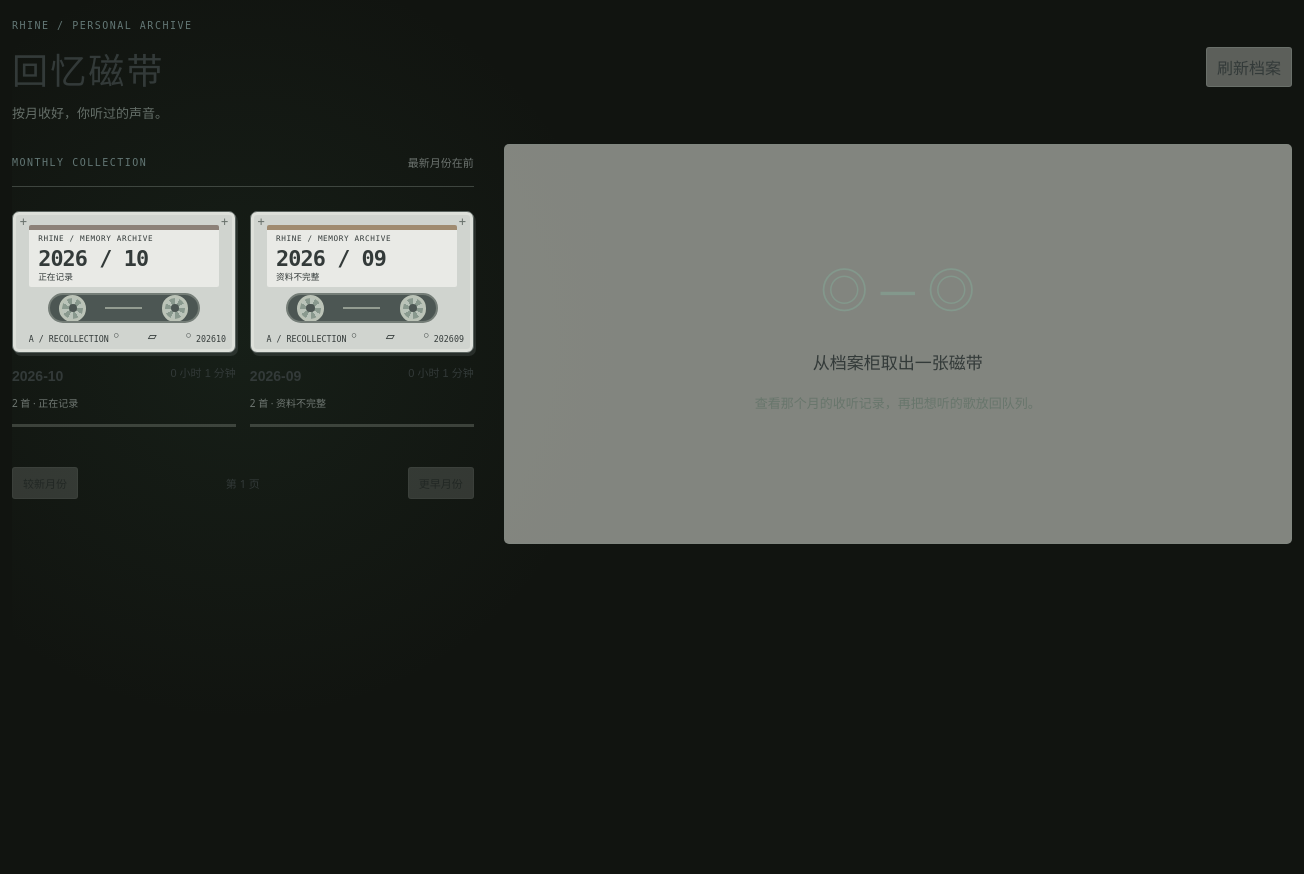
Test: 月份状态、翻面与重复打开不丢失档案，缺失曲目不可回放
This screenshot has width=1304, height=874.
Click the button with aria-label "打开 2026-10" at {"x": 124, "y": 319}, box [12, 211, 236, 427]
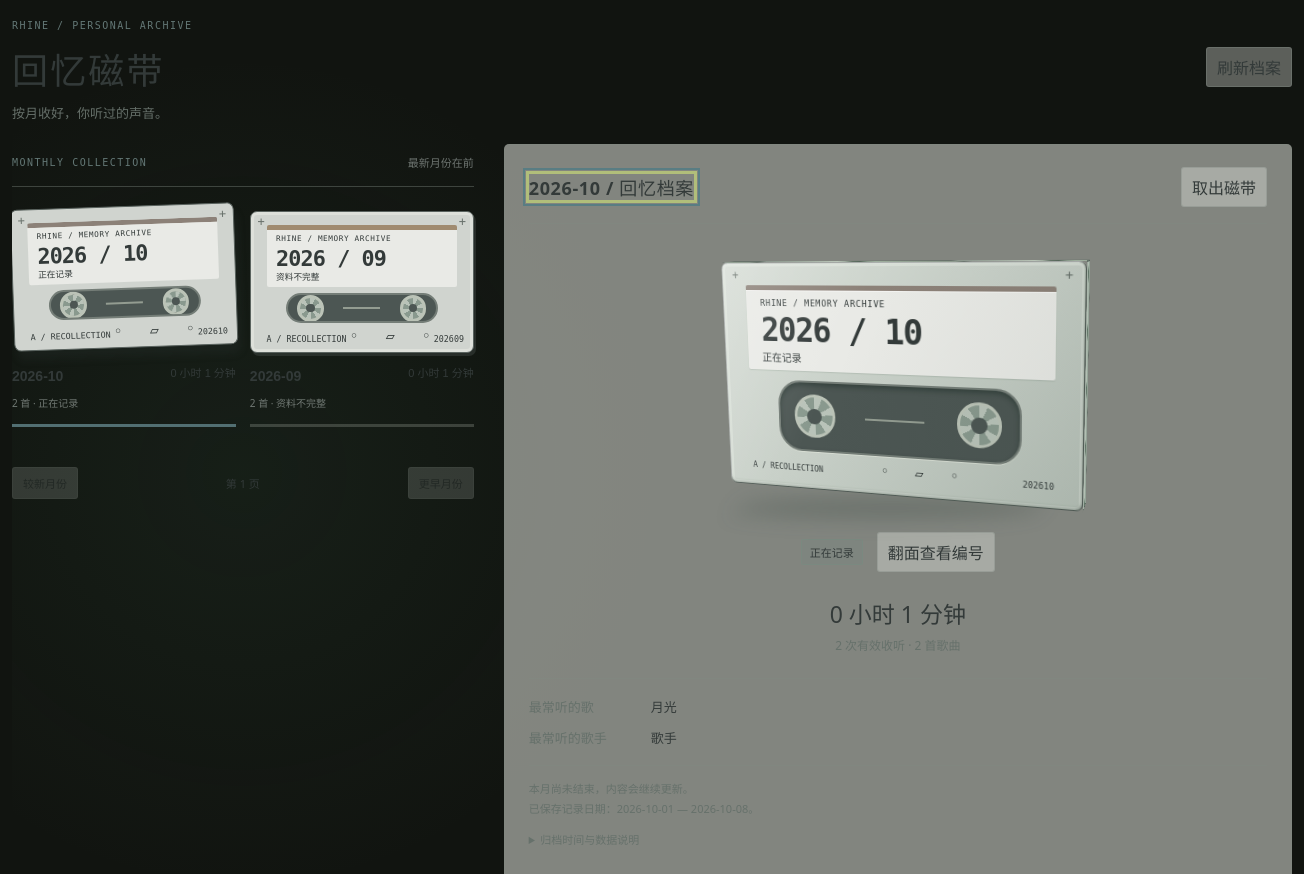
expect the text "本月尚未结束，内容会继续更新。已保存记录日期：2026-10-01 — 2026-10-08。" is shown: met, box [529, 781, 759, 816]
Click the button "翻面查看编号" at {"x": 936, "y": 552}, box [877, 532, 995, 572]
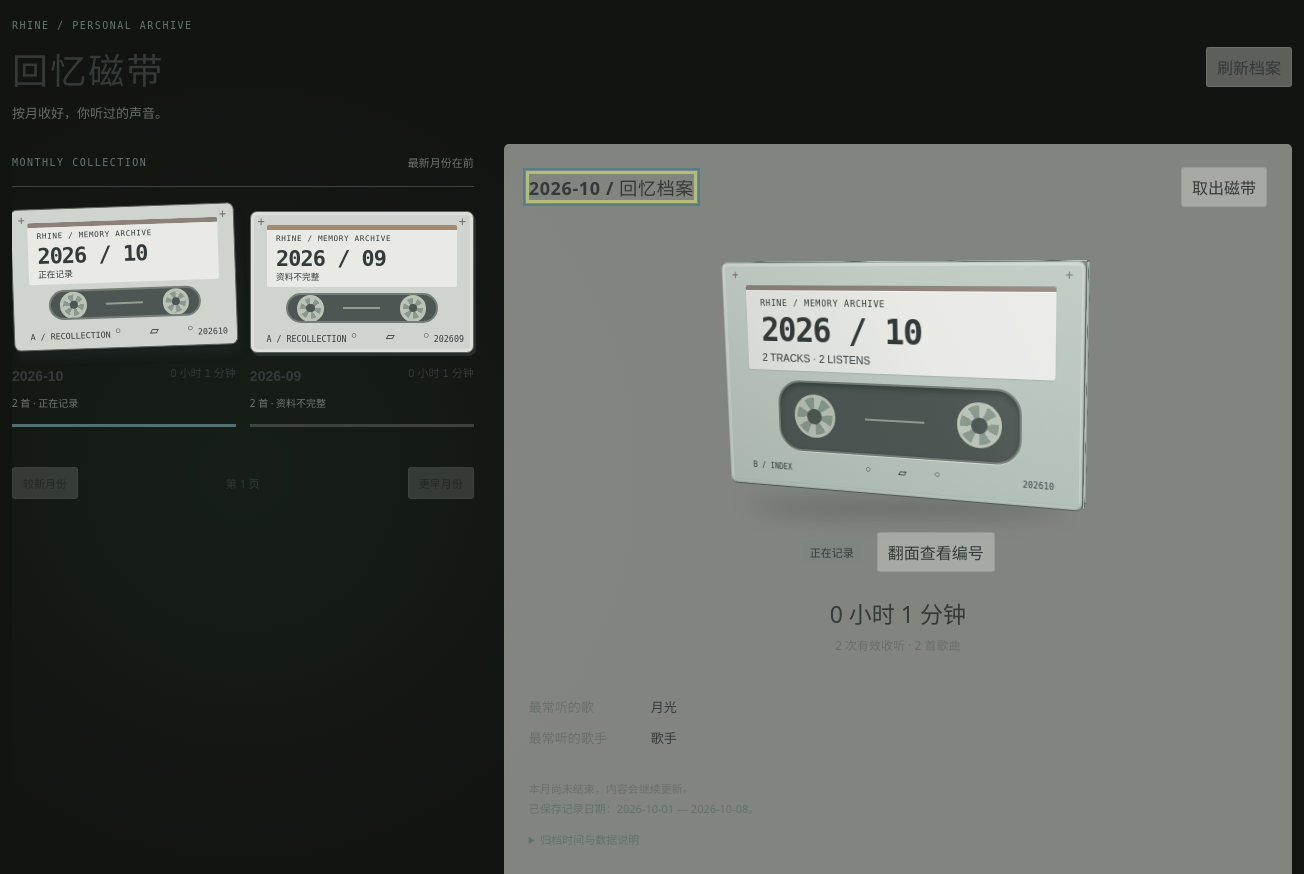
Click the button with aria-label "打开 2026-10" at {"x": 124, "y": 319}, box [12, 211, 236, 427]
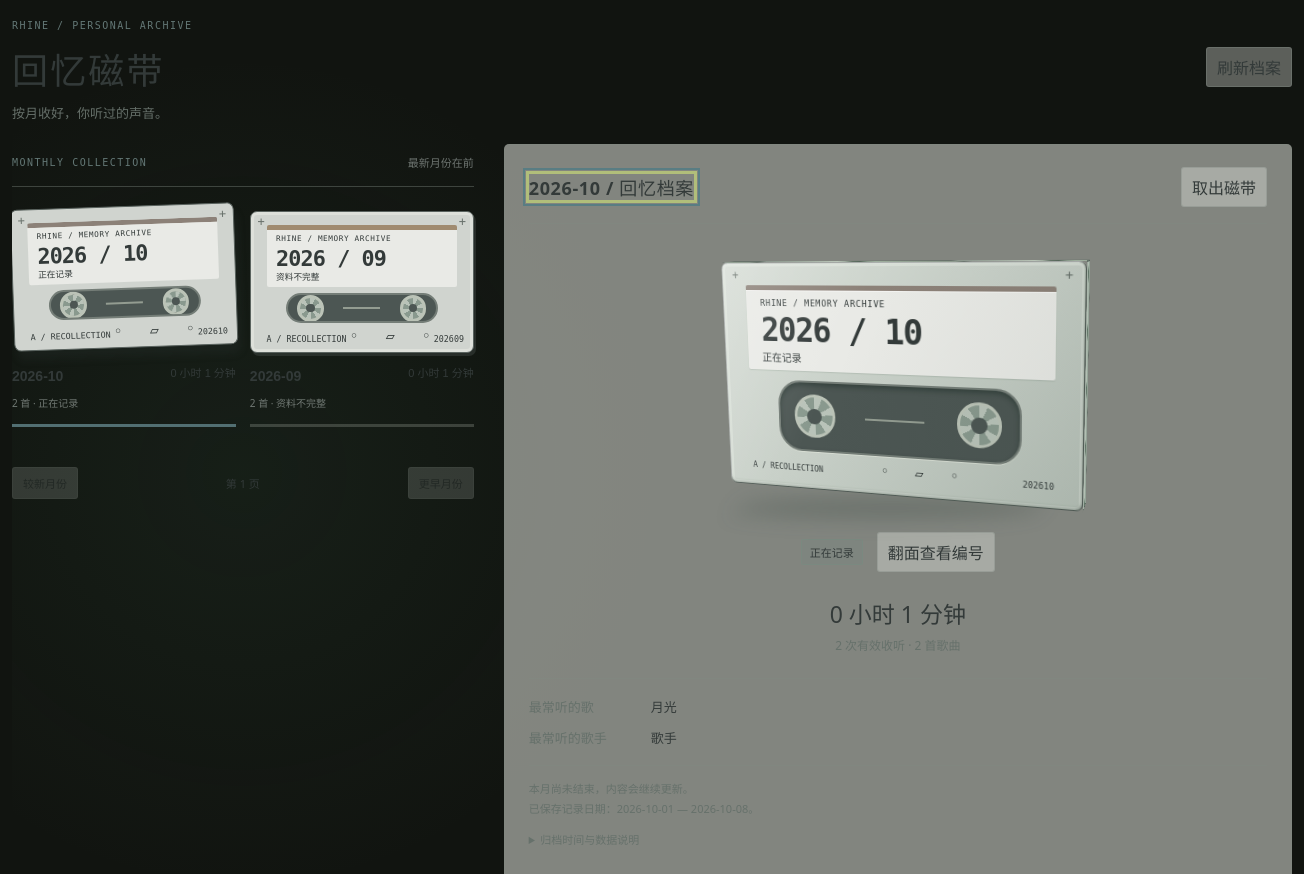
Click the button "取出磁带" at {"x": 1224, "y": 187}, box [1181, 167, 1267, 207]
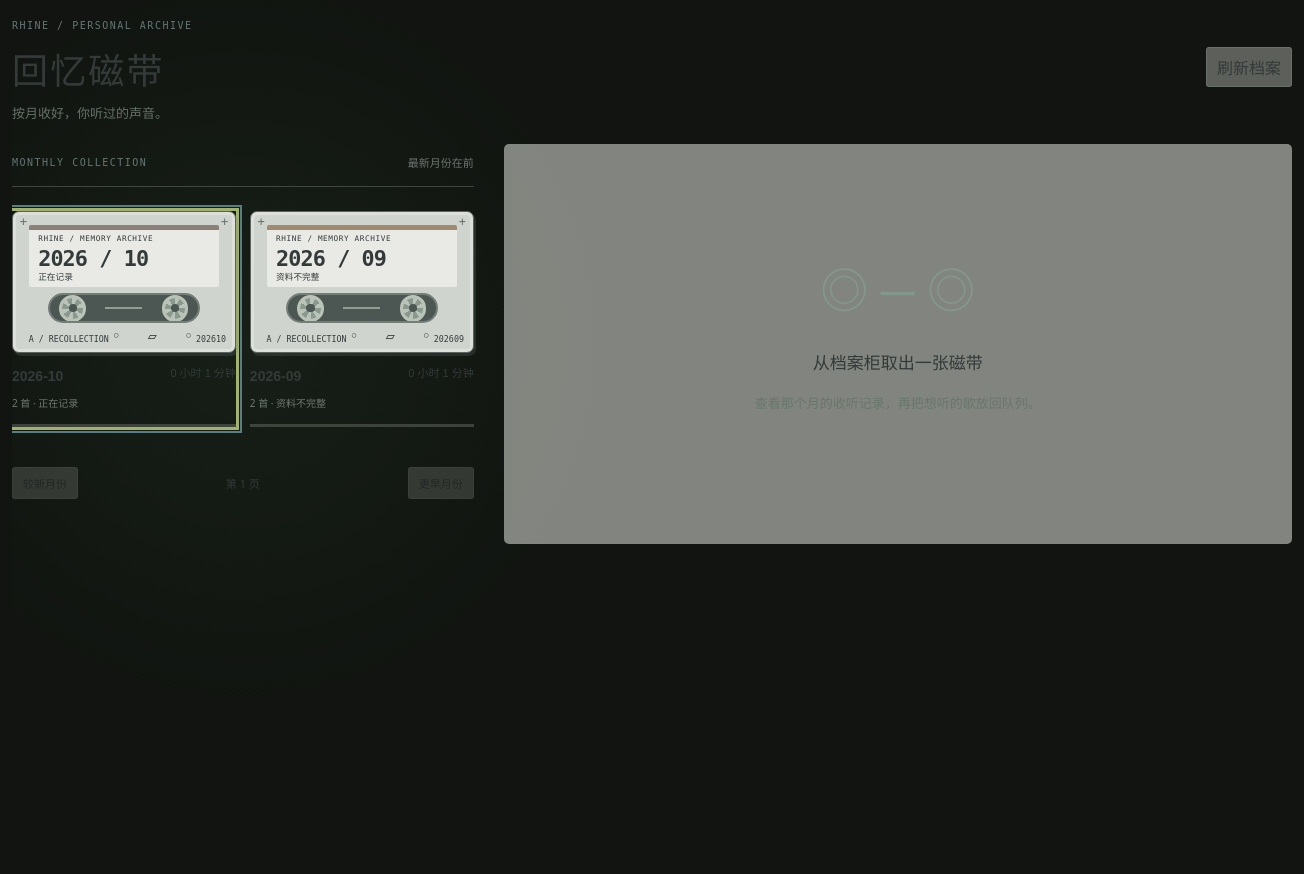
expect the heading "从档案柜取出一张磁带" is shown: met, box [813, 350, 983, 374]
